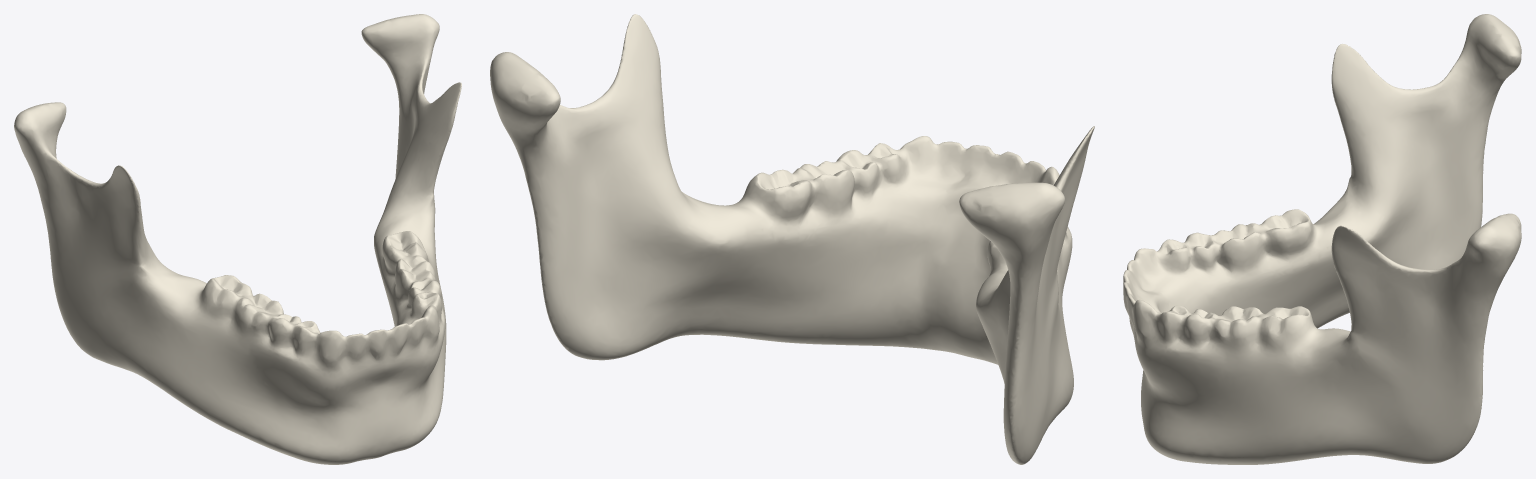
The model's file is mandible.glb.
3 renders of one model, left to right at view 1: azimuth 30°, elevation 25°; view 2: azimuth 150°, elevation 25°; view 3: azimuth 270°, elevation 25°, orthographic. The views are drawn at different scales.
Parts seen in each view (by area): view 1: bone.mandible; view 2: bone.mandible; view 3: bone.mandible.
Boxes of the visible parts, x1,y1,x2,y2 form: bone.mandible: [14, 14, 461, 464]; bone.mandible: [490, 14, 1094, 464]; bone.mandible: [1123, 14, 1521, 464].
Bounding box in the file's own units: 0.1177 × 0.0759 × 0.0877.
